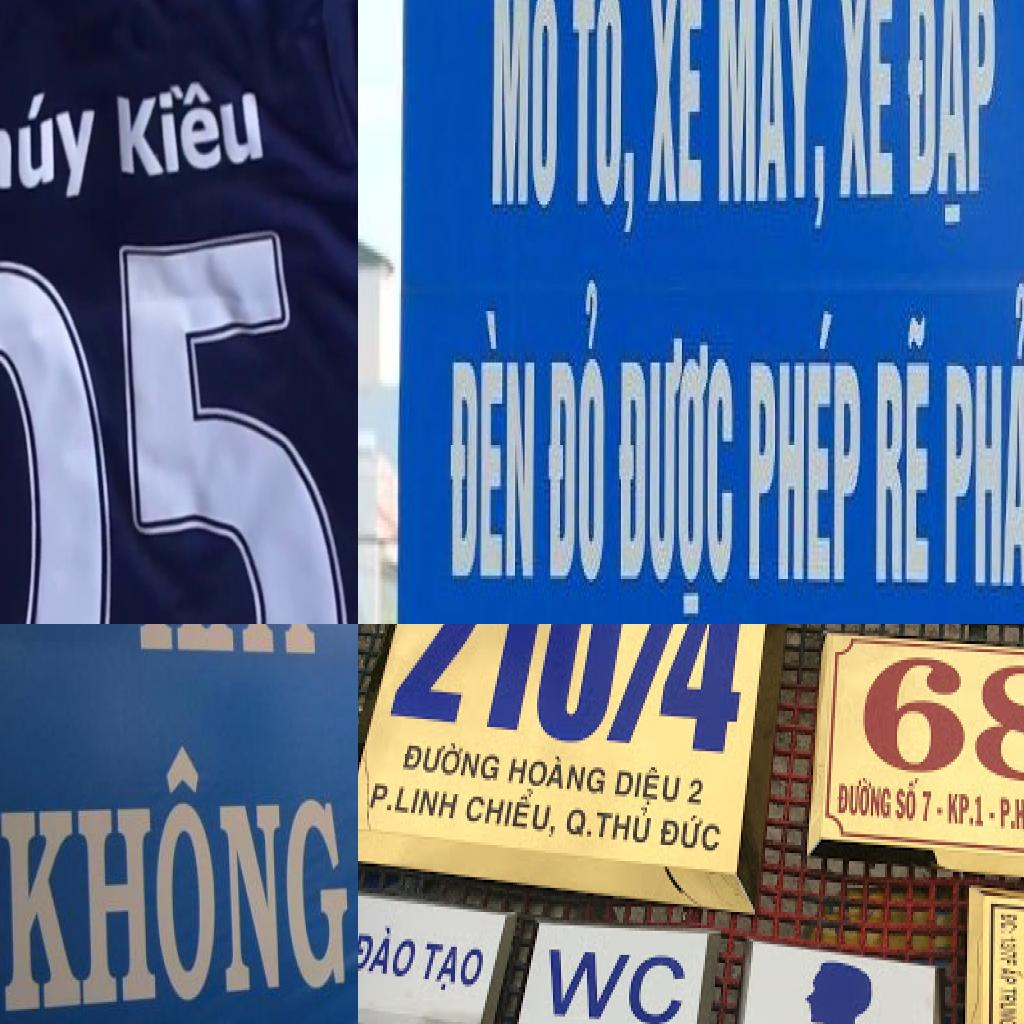text: (0, 742, 350, 1014), (381, 624, 759, 764), (614, 324, 741, 624), (746, 308, 865, 592), (715, 0, 834, 249), (940, 269, 1024, 596), (446, 304, 539, 589), (853, 641, 1024, 791), (905, 0, 1003, 235), (546, 270, 610, 589), (568, 0, 642, 245), (873, 311, 935, 596), (487, 0, 566, 222), (114, 78, 266, 179), (541, 936, 693, 1024), (836, 0, 898, 211), (645, 0, 706, 214), (0, 92, 101, 211), (461, 783, 559, 845), (401, 735, 505, 789), (505, 748, 613, 797), (419, 934, 491, 1000), (358, 917, 423, 986), (613, 762, 685, 813), (391, 781, 465, 826), (655, 813, 725, 858), (597, 800, 657, 850), (835, 775, 895, 824), (895, 775, 923, 824), (367, 776, 401, 816), (565, 800, 595, 842), (947, 789, 977, 829), (685, 770, 709, 813), (997, 984, 1021, 1024), (999, 792, 1019, 834), (999, 909, 1023, 939), (921, 784, 937, 824), (1011, 794, 1024, 837), (975, 792, 987, 832), (1001, 968, 1024, 987), (989, 810, 999, 824), (935, 805, 945, 818)
